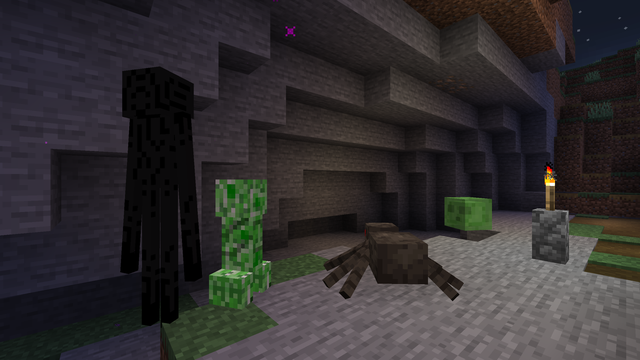araignees: (325, 215, 449, 310)
creepers: (213, 173, 271, 308)
endermens: (126, 52, 194, 340)
slimes: (444, 195, 489, 231)
